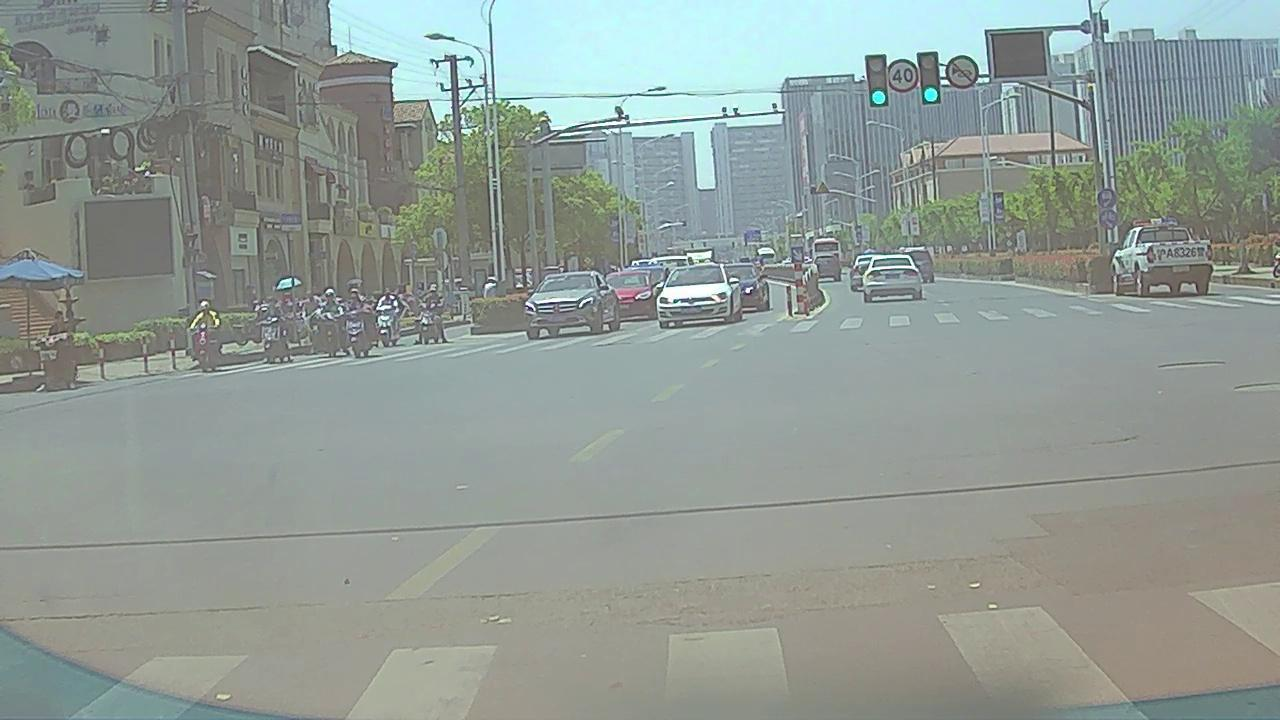traffic_light: (866, 56, 890, 108), (918, 51, 941, 104)
